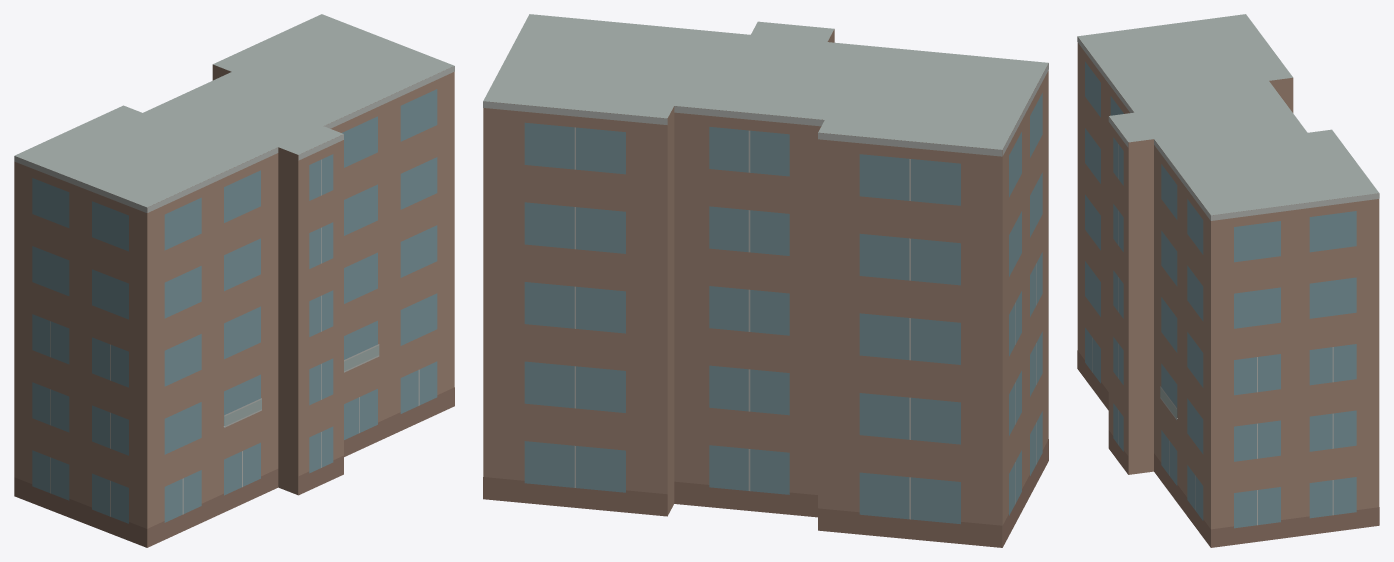
Rendered from survey-upis-32621412.glb.
The picture shows the model from 3 angles, left to right: view 1: azimuth 30°, elevation 25°; view 2: azimuth 150°, elevation 25°; view 3: azimuth 270°, elevation 25°; orthographic projection. The views are drawn at different scales.
Parts seen in each view (by area): view 1: survey-upis-32621412.tmp; view 2: survey-upis-32621412.tmp; view 3: survey-upis-32621412.tmp.
Boxes of the visible parts, <box> form: survey-upis-32621412.tmp: <box>14,14,454,547</box>; survey-upis-32621412.tmp: <box>483,14,1048,547</box>; survey-upis-32621412.tmp: <box>1077,14,1379,547</box>.
Bounding box in the file's own units: 18.72 × 14.4 × 11.86.
